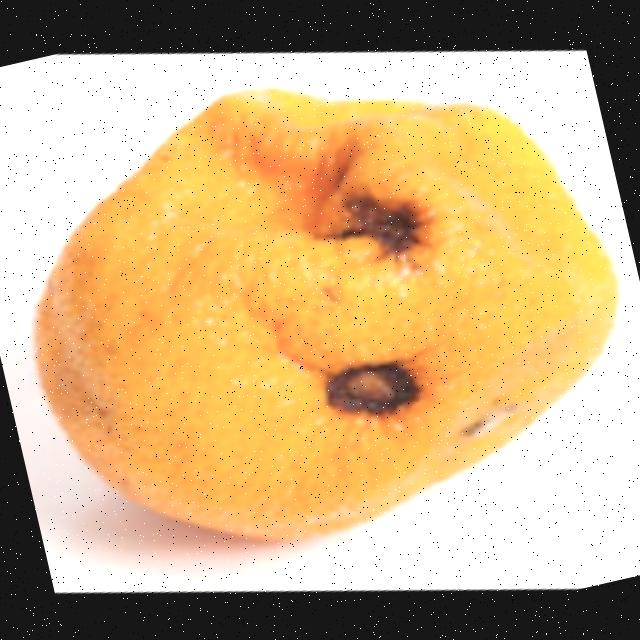overripe: (0, 1, 640, 595)
